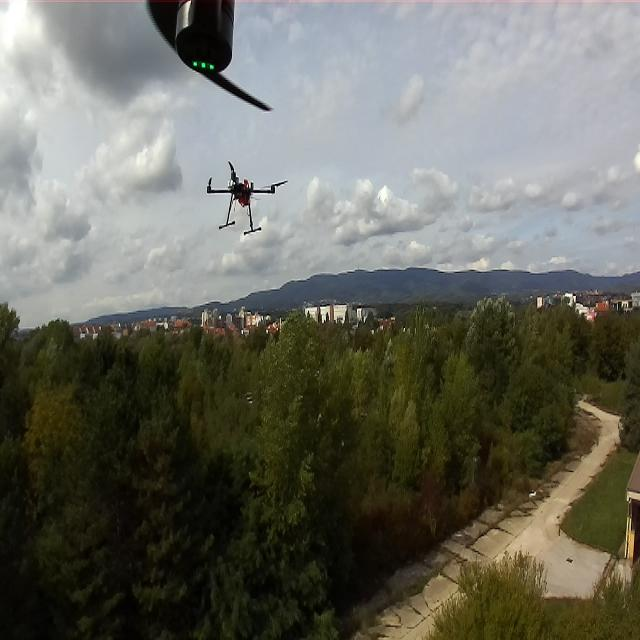UAV: (199, 159, 292, 237)
